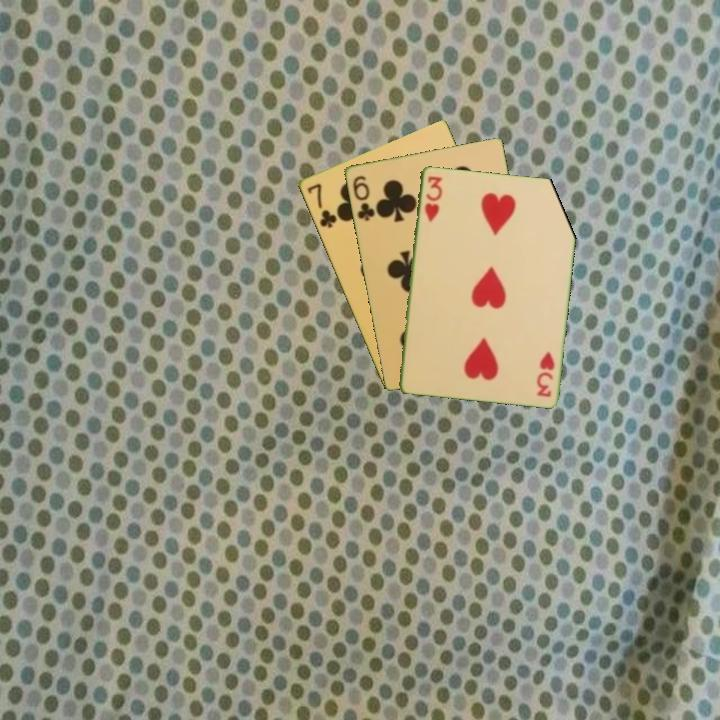3h: (533, 347, 557, 400), (421, 172, 445, 224)
6c: (349, 172, 377, 223)
7c: (303, 180, 339, 231)
